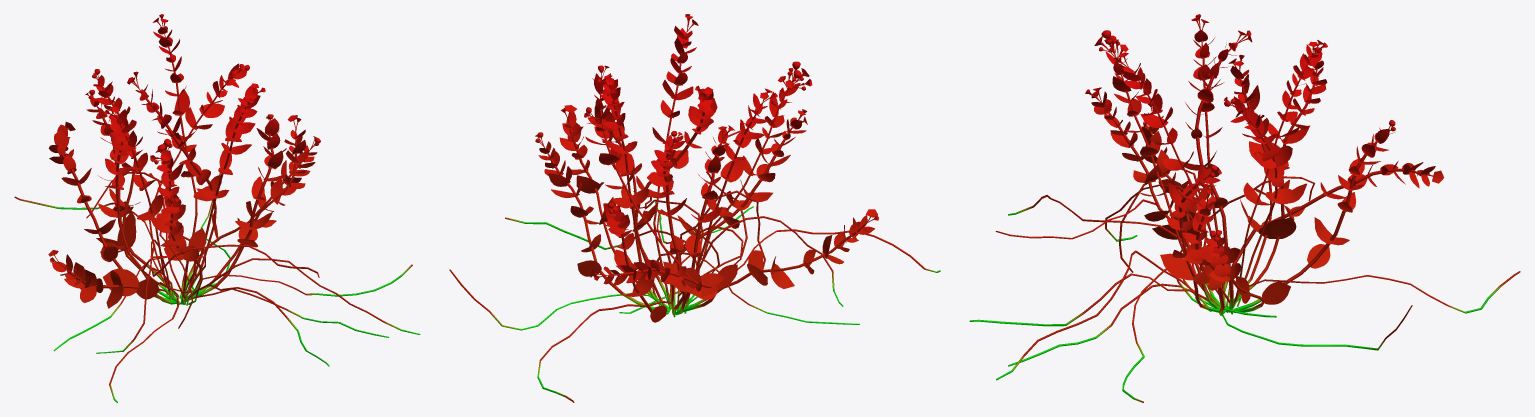
Rendered from Rubber Bush_LOD2_Var11_xffhfekia.fbx.
3 renders of one model, left to right at view 1: azimuth 30°, elevation 25°; view 2: azimuth 150°, elevation 25°; view 3: azimuth 270°, elevation 25°, orthographic. The views are drawn at different scales.
Parts seen in each view (by area): view 1: _mtoy_Var11_LOD2; view 2: _mtoy_Var11_LOD2; view 3: _mtoy_Var11_LOD2.
Part boxes in pixels (bbox=[...]): _mtoy_Var11_LOD2: bbox=[14, 14, 420, 402]; _mtoy_Var11_LOD2: bbox=[449, 14, 940, 402]; _mtoy_Var11_LOD2: bbox=[969, 14, 1520, 402].
Bounding box in the file's own units: 205 × 136 × 240.
